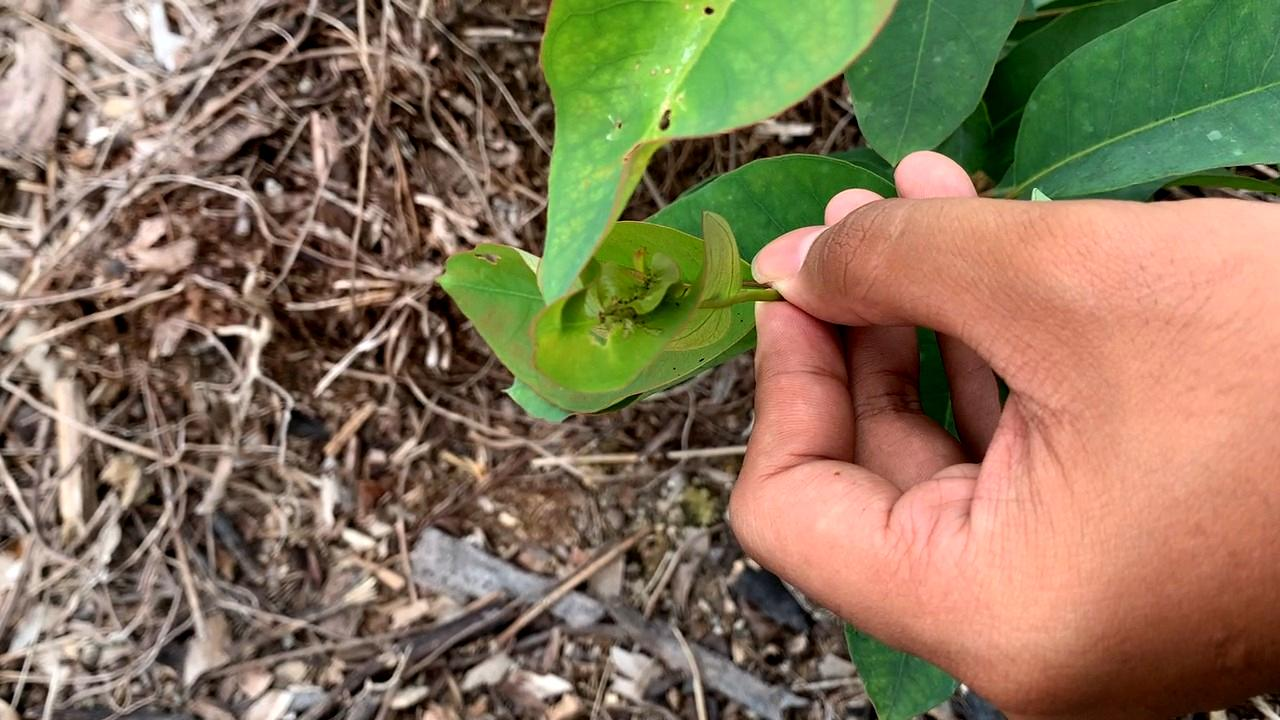Leaf Roller - Leaf: (597, 261, 685, 316)
